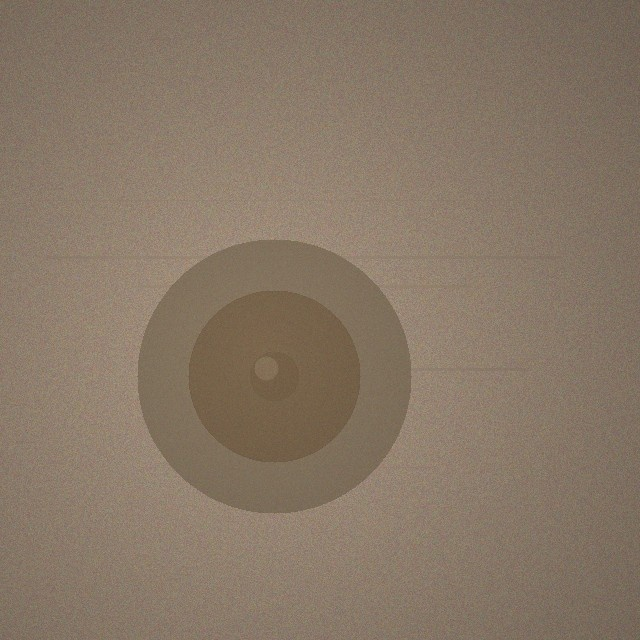good: (137, 239, 411, 513)
